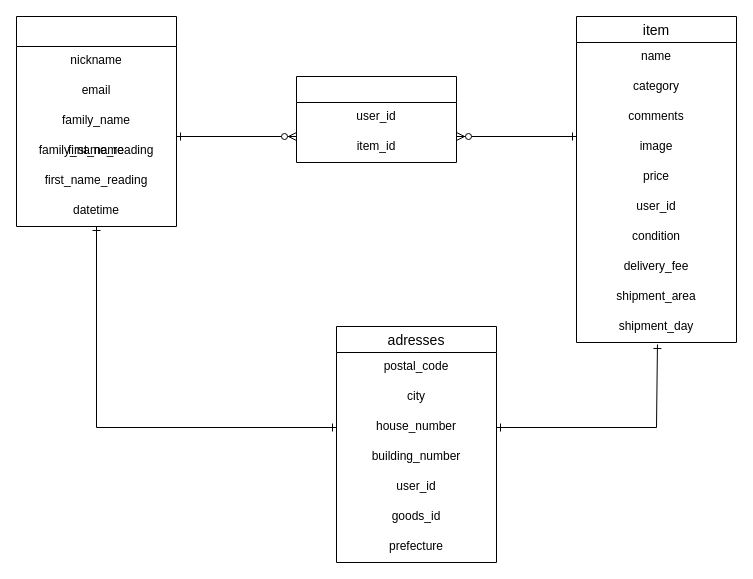
This 753x579 diagram has some shape labels left out. Here are the shapes that lost their labels. From the top down, the box of each, then its label:
(16, 16, 176, 226): Users
(296, 76, 456, 162): user-item
